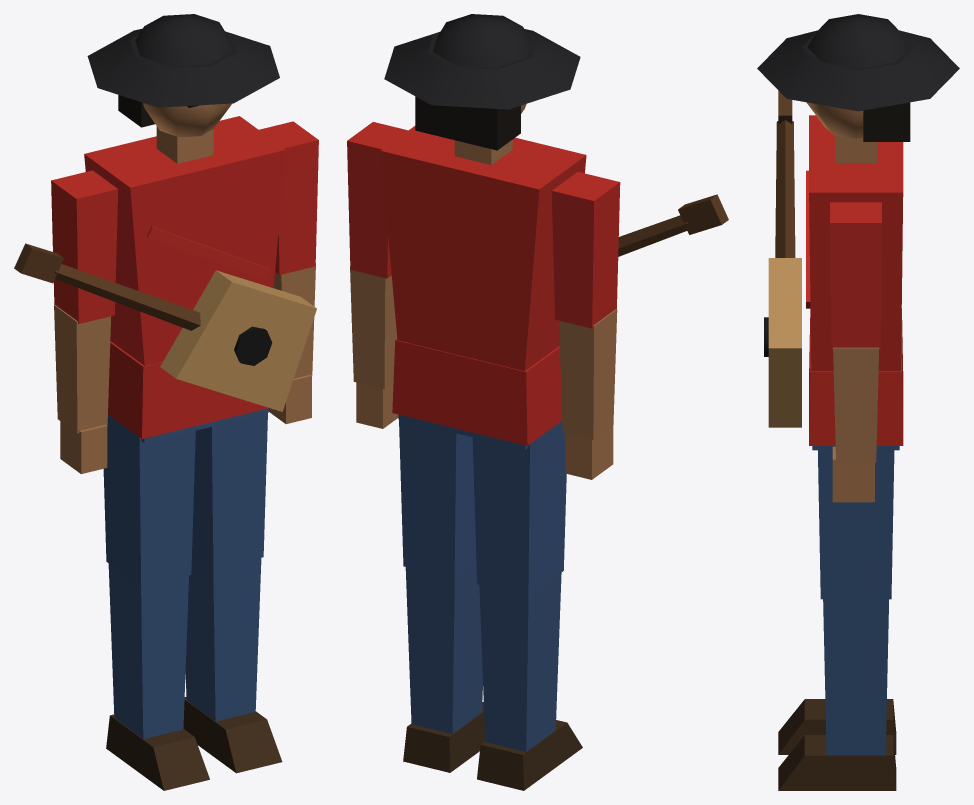
File: npc_pengamen.glb
3 views of the same model, side by side, from view 1: azimuth 30°, elevation 25°; view 2: azimuth 150°, elevation 25°; view 3: azimuth 270°, elevation 25° (orthographic). The views are drawn at different scales.
Visible parts, largest first — view 1: torso, leg_r, leg_l, arm_r, head, arm_l; view 2: torso, leg_r, leg_l, arm_r, head, arm_l; view 3: torso, leg_l, head, arm_l, leg_r.
Boxes of the visible parts, x1=… form: torso: x1=14, y1=116, x2=316, y2=443; leg_r: x1=103, y1=414, x2=209, y2=790; leg_l: x1=183, y1=413, x2=282, y2=773; arm_r: x1=51, y1=170, x2=118, y2=474; head: x1=87, y1=14, x2=279, y2=136; arm_l: x1=259, y1=121, x2=318, y2=423; torso: x1=380, y1=126, x2=728, y2=449; leg_r: x1=472, y1=421, x2=582, y2=790; leg_l: x1=399, y1=419, x2=485, y2=772; arm_r: x1=551, y1=172, x2=620, y2=479; head: x1=384, y1=14, x2=580, y2=150; arm_l: x1=347, y1=122, x2=407, y2=428; torso: x1=764, y1=90, x2=903, y2=450; leg_l: x1=778, y1=446, x2=896, y2=790; head: x1=757, y1=14, x2=959, y2=141; arm_l: x1=830, y1=202, x2=881, y2=502; leg_r: x1=778, y1=699, x2=896, y2=754.
Bounding box in the file's own units: 0.8056 × 1.73 × 0.43.
Materials: 1 (1 with a texture image).
